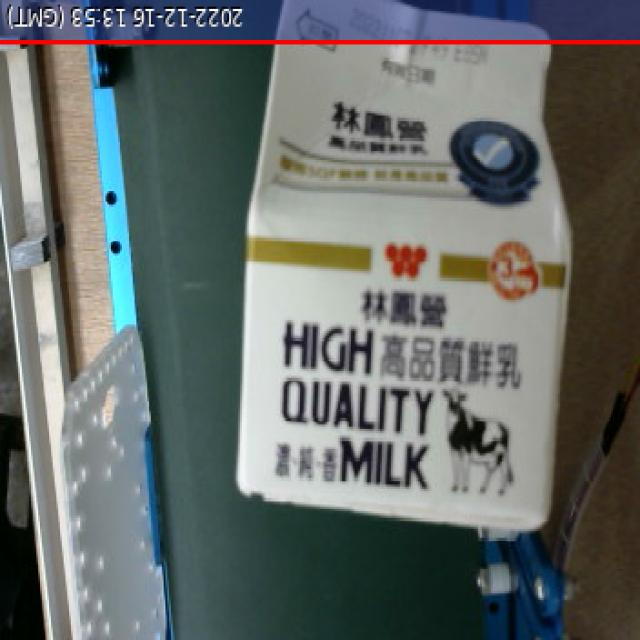non_white_jug: (228, 0, 596, 538)
